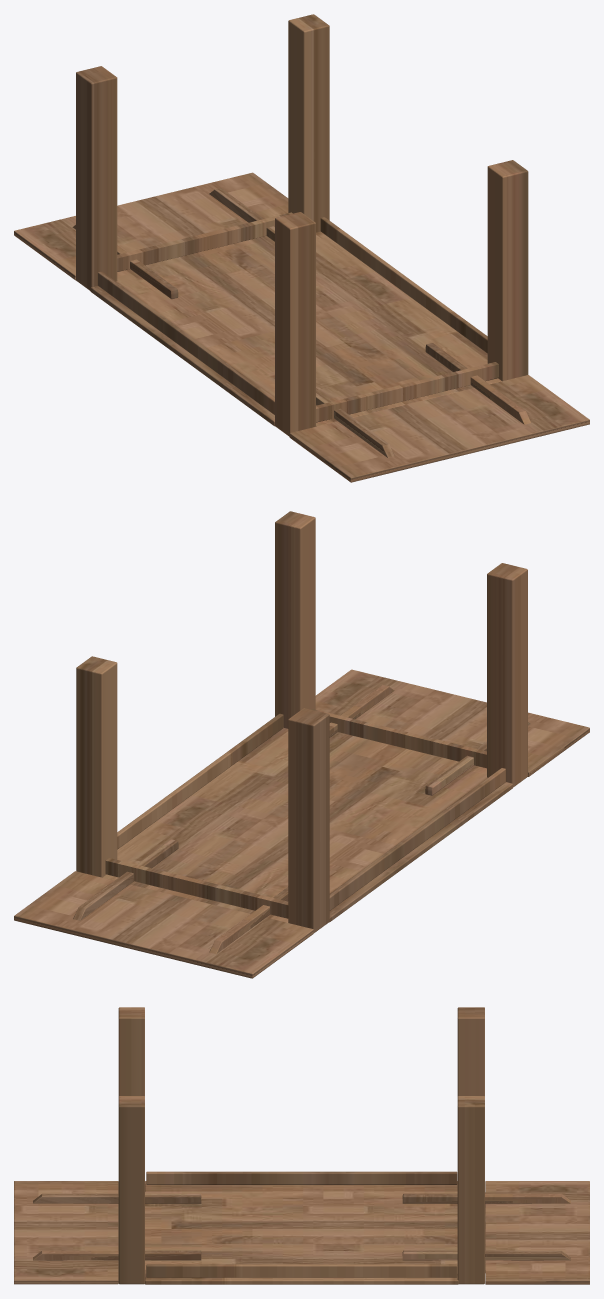
Rendered from KitchenTable.fbx.
3 views of the same model, one above another, from view 1: azimuth 30°, elevation 25°; view 2: azimuth 150°, elevation 25°; view 3: azimuth 270°, elevation 25° (orthographic). The views are drawn at different scales.
Parts seen in each view (by area): view 1: Legs, TableTop, AdapterPlate.001, UnderConstruction, AdapterPlate; view 2: Legs, TableTop, AdapterPlate, UnderConstruction, AdapterPlate.001; view 3: TableTop, Legs, AdapterPlate.001, AdapterPlate, UnderConstruction.
Part boxes in pixels (box(x1,y1,x2,y2)): Legs: box(76, 14, 528, 436); TableTop: box(90, 231, 501, 426); AdapterPlate.001: box(289, 343, 589, 482); UnderConstruction: box(97, 212, 498, 422); AdapterPlate: box(14, 172, 288, 299); Legs: box(76, 511, 527, 932); TableTop: box(102, 727, 512, 922); AdapterPlate: box(14, 839, 313, 978); UnderConstruction: box(105, 709, 505, 918); AdapterPlate.001: box(315, 669, 589, 795); TableTop: box(145, 1181, 485, 1284); Legs: box(118, 1007, 484, 1284); AdapterPlate.001: box(14, 1181, 201, 1284); AdapterPlate: box(402, 1181, 589, 1284); UnderConstruction: box(146, 1171, 457, 1277).
Size of the model in its own units: 90.16 by 75 by 220.
